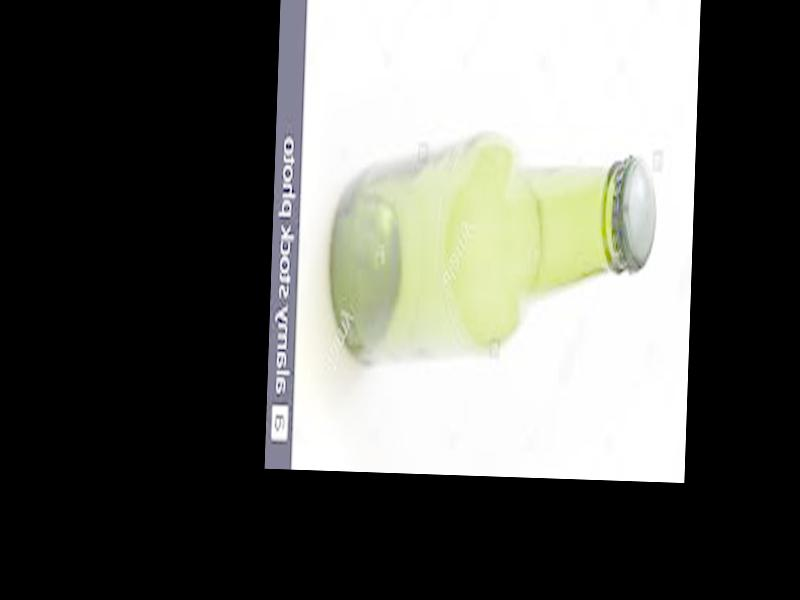Beer: (326, 144, 658, 373)
